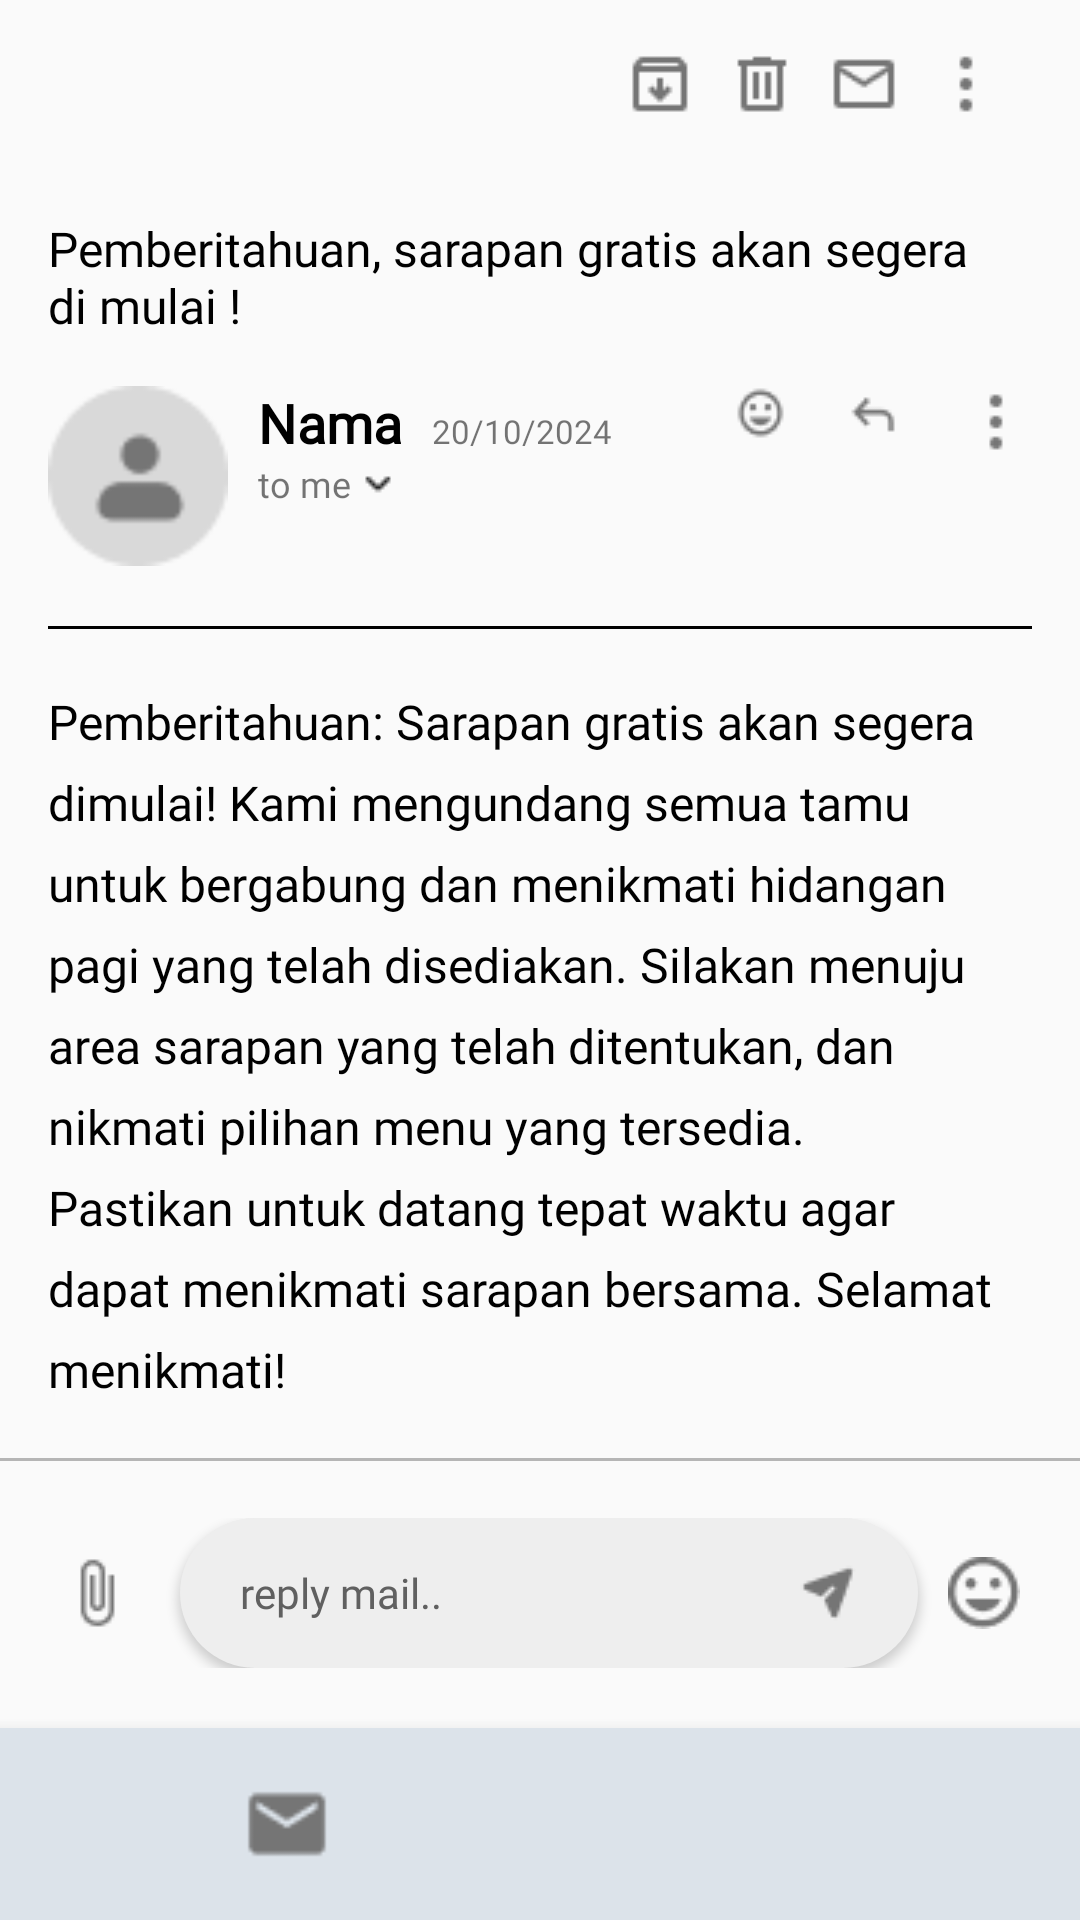

Screen size 1080 x 1920. Icon name, then its box in pixels as {"x1": x1, "y1": y1, "x2": x2, "y2": y2}:
arrowdown: {"x1": 365, "y1": 476, "x2": 391, "y2": 492}
email: {"x1": 833, "y1": 59, "x2": 895, "y2": 109}
menudots: {"x1": 959, "y1": 56, "x2": 973, "y2": 112}, {"x1": 989, "y1": 394, "x2": 1003, "y2": 450}
paperclip: {"x1": 80, "y1": 1559, "x2": 115, "y2": 1627}
symbols archive: {"x1": 632, "y1": 56, "x2": 688, "y2": 112}
symbols delete: {"x1": 737, "y1": 56, "x2": 787, "y2": 112}
symbols reply: {"x1": 852, "y1": 397, "x2": 895, "y2": 432}
